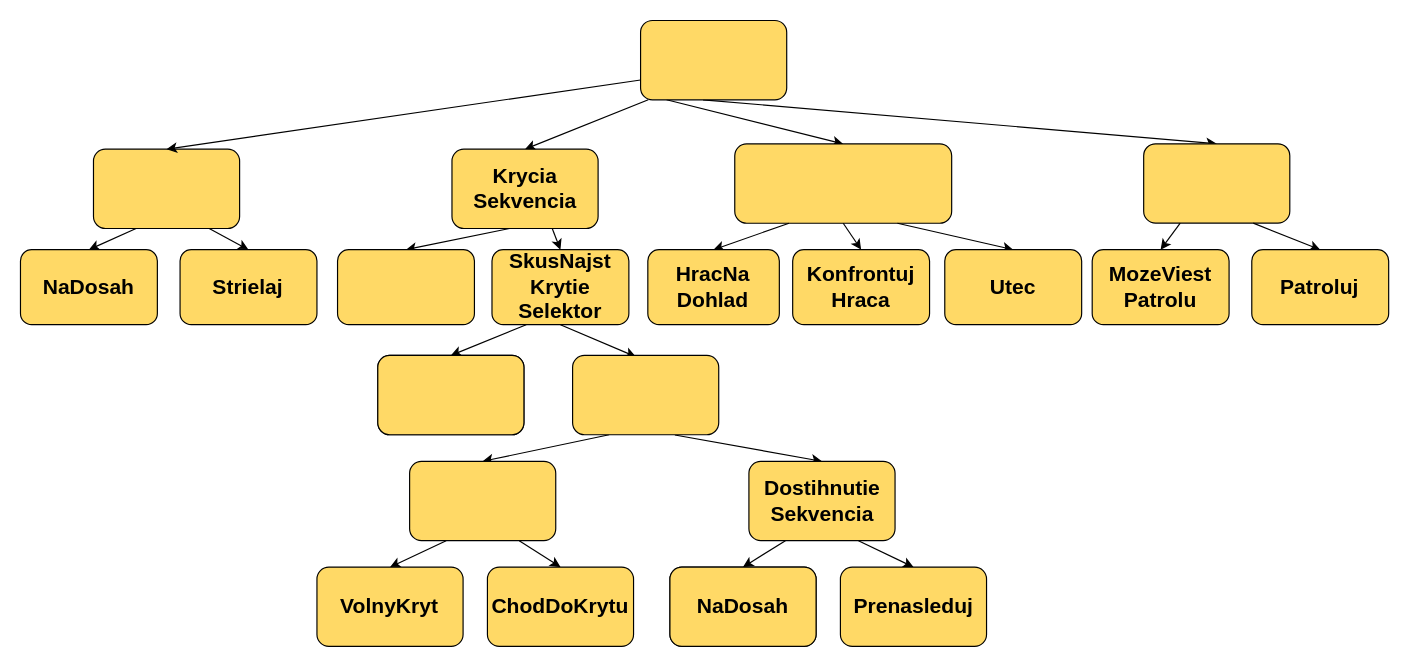
Some shapes in this 1410 by 667 pixel diagram are drawn without their labels. Each missing label, with the centre of its shape:
AiJePrenesladovana Sekvencia: point 843,183
ChodDoKrytu Sekvencia: point 482,500
JeKryty: point 450,394
NajdiKryt Selektor: point 645,394
Patrola Sekvencia: point 1216,183
SelektorKoren: point 713,59
Strelba Sekvencia: point 166,188
Zdravie: point 405,287
